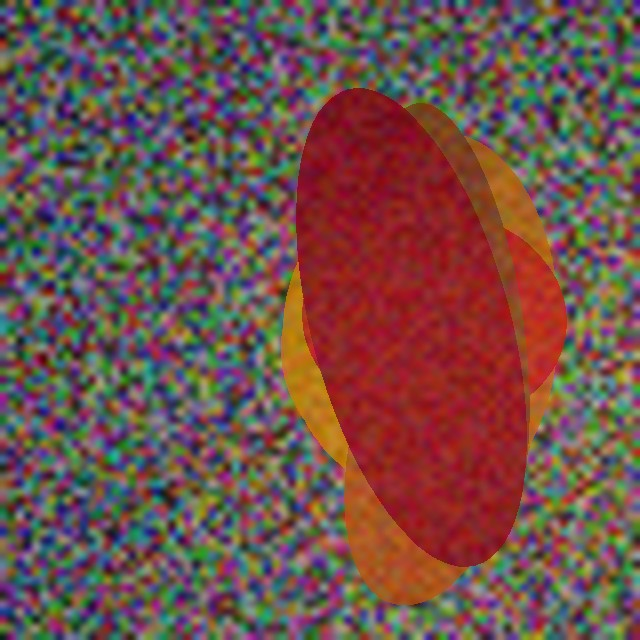fire: (269, 275, 577, 473)
